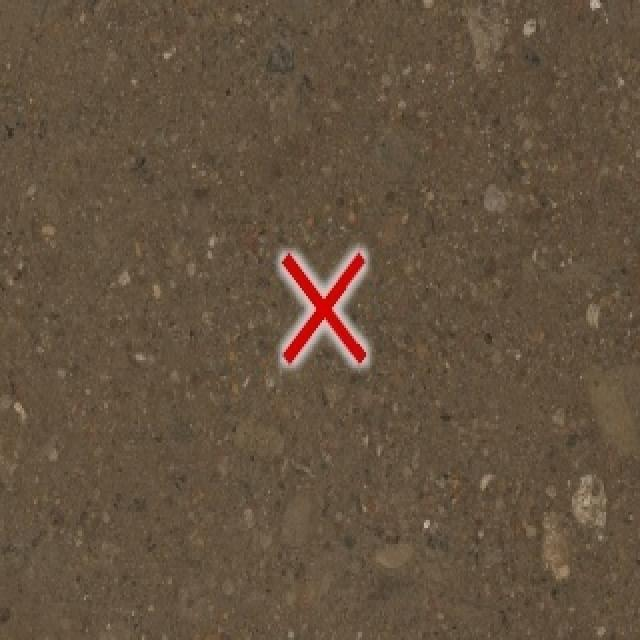x_marker: (281, 252, 365, 361)
